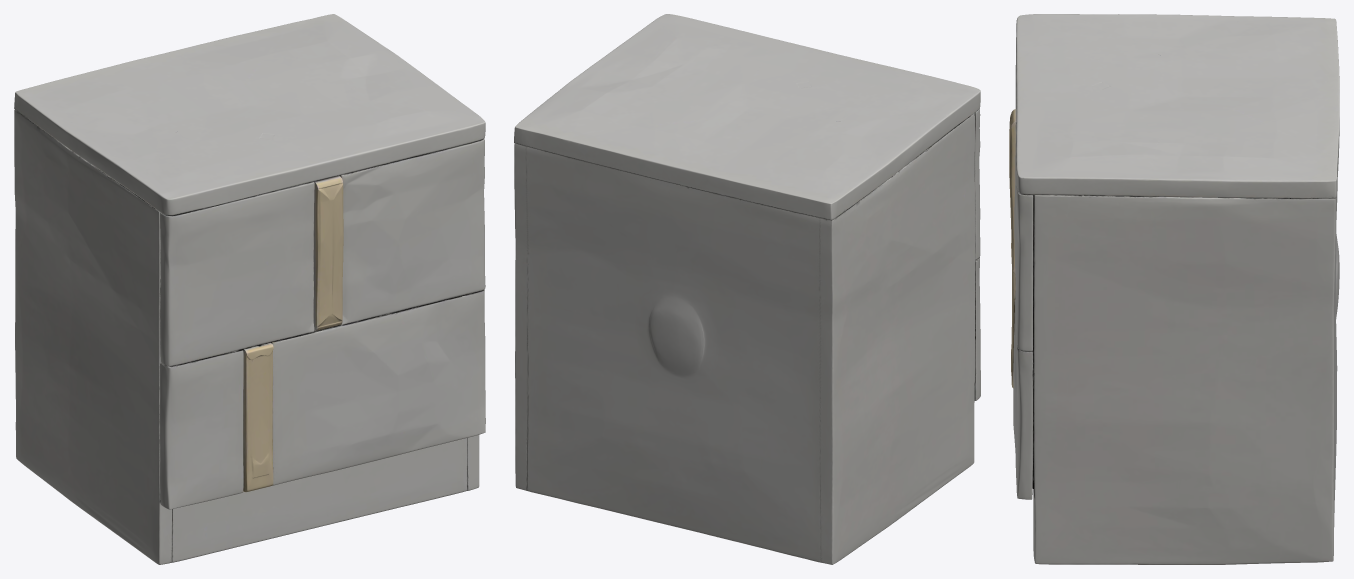
Rendered from No Name-07.glb.
3 renders of one model, left to right at view 1: azimuth 30°, elevation 25°; view 2: azimuth 150°, elevation 25°; view 3: azimuth 270°, elevation 25°, orthographic. The views are drawn at different scales.
Parts seen in each view (by area): view 1: tripo_node_0280c32d-aeb6-4746-b9c4-d1f05958f1c0; view 2: tripo_node_0280c32d-aeb6-4746-b9c4-d1f05958f1c0; view 3: tripo_node_0280c32d-aeb6-4746-b9c4-d1f05958f1c0.
Part boxes in pixels (<box>): tripo_node_0280c32d-aeb6-4746-b9c4-d1f05958f1c0: <box>14,14,485,564</box>; tripo_node_0280c32d-aeb6-4746-b9c4-d1f05958f1c0: <box>514,14,980,564</box>; tripo_node_0280c32d-aeb6-4746-b9c4-d1f05958f1c0: <box>1009,14,1339,564</box>.
Size of the model in its own units: 0.8976 by 0.9799 by 0.7536.
Materials: 1 (1 with a texture image).
